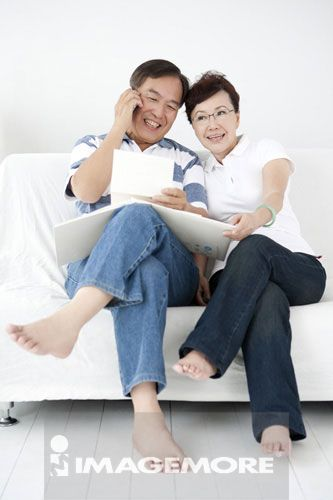talk: (112, 85, 180, 144)
